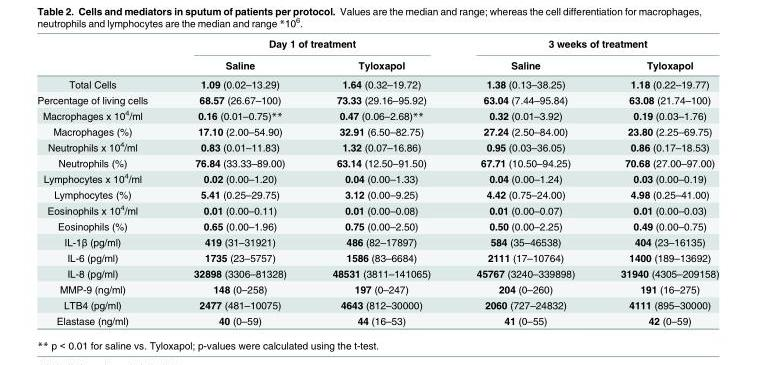table: (36, 37, 718, 326)
table column: (452, 37, 597, 326), (308, 37, 452, 326), (170, 37, 308, 326), (36, 37, 170, 326), (597, 37, 718, 326)
table column header: (36, 37, 718, 74)
table row: (36, 53, 718, 74), (36, 74, 718, 91), (36, 106, 718, 123), (36, 169, 718, 186), (36, 37, 718, 53), (36, 138, 718, 154), (36, 201, 718, 217), (36, 217, 718, 233), (36, 233, 718, 249), (36, 249, 718, 265), (36, 280, 718, 296), (36, 296, 718, 312), (36, 91, 718, 106), (36, 123, 718, 138), (36, 154, 718, 169), (36, 186, 718, 201), (36, 265, 718, 280), (36, 312, 718, 326)
table spanning cell: (170, 37, 452, 53), (452, 37, 718, 53)
